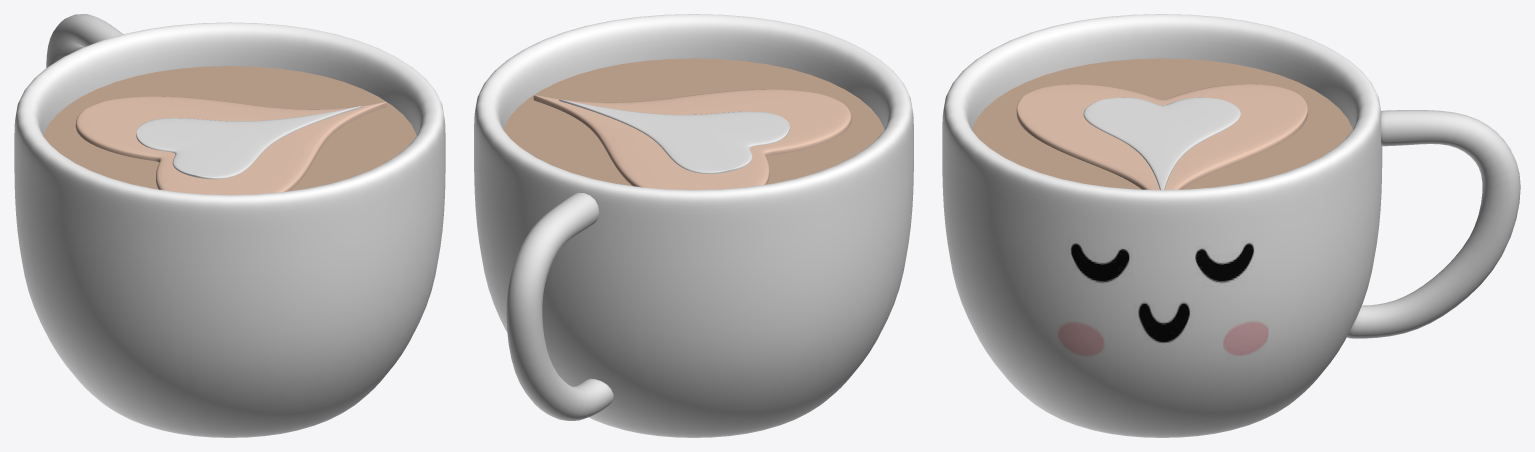
The model's file is cupee.glb.
3 renders of one model, left to right at view 1: azimuth 30°, elevation 25°; view 2: azimuth 150°, elevation 25°; view 3: azimuth 270°, elevation 25°, orthographic. The views are drawn at different scales.
Visible parts, largest first — view 1: Circle, Circle.001, NurbsPath, NurbsPath.001, Cube; view 2: Circle, Circle.001, NurbsPath, Cube, NurbsPath.001; view 3: Circle, Circle.001, NurbsPath, Cube, NurbsPath.001.
Boxes of the visible parts, bbox=[...] form: Circle: bbox=[14, 22, 445, 437]; Circle.001: bbox=[43, 66, 416, 190]; NurbsPath: bbox=[75, 96, 386, 194]; NurbsPath.001: bbox=[136, 106, 362, 179]; Cube: bbox=[46, 14, 122, 67]; Circle: bbox=[474, 14, 913, 437]; Circle.001: bbox=[503, 58, 884, 185]; NurbsPath: bbox=[533, 89, 851, 189]; Cube: bbox=[506, 192, 613, 420]; NurbsPath.001: bbox=[559, 99, 789, 173]; Circle: bbox=[942, 14, 1382, 437]; Circle.001: bbox=[971, 58, 1352, 189]; NurbsPath: bbox=[1016, 84, 1307, 189]; Cube: bbox=[1346, 110, 1520, 338]; NurbsPath.001: bbox=[1083, 97, 1240, 189].
Size of the model in its own units: 2.27 by 1.61 by 3.
4 materials, 1 textured.
